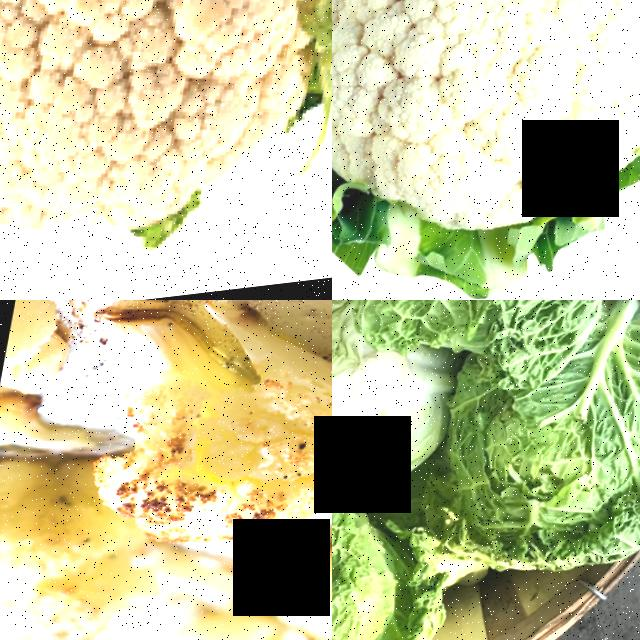cabbage: (455, 345, 640, 599), (332, 515, 506, 640), (393, 300, 640, 384), (332, 338, 453, 494)
cauliflower: (0, 0, 332, 300), (332, 0, 640, 300), (70, 300, 332, 619)
